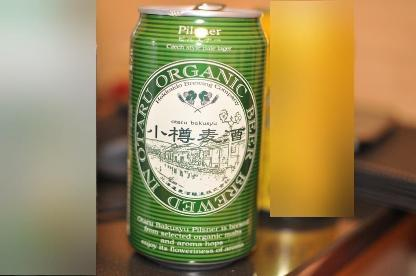Can: (131, 2, 268, 270)
